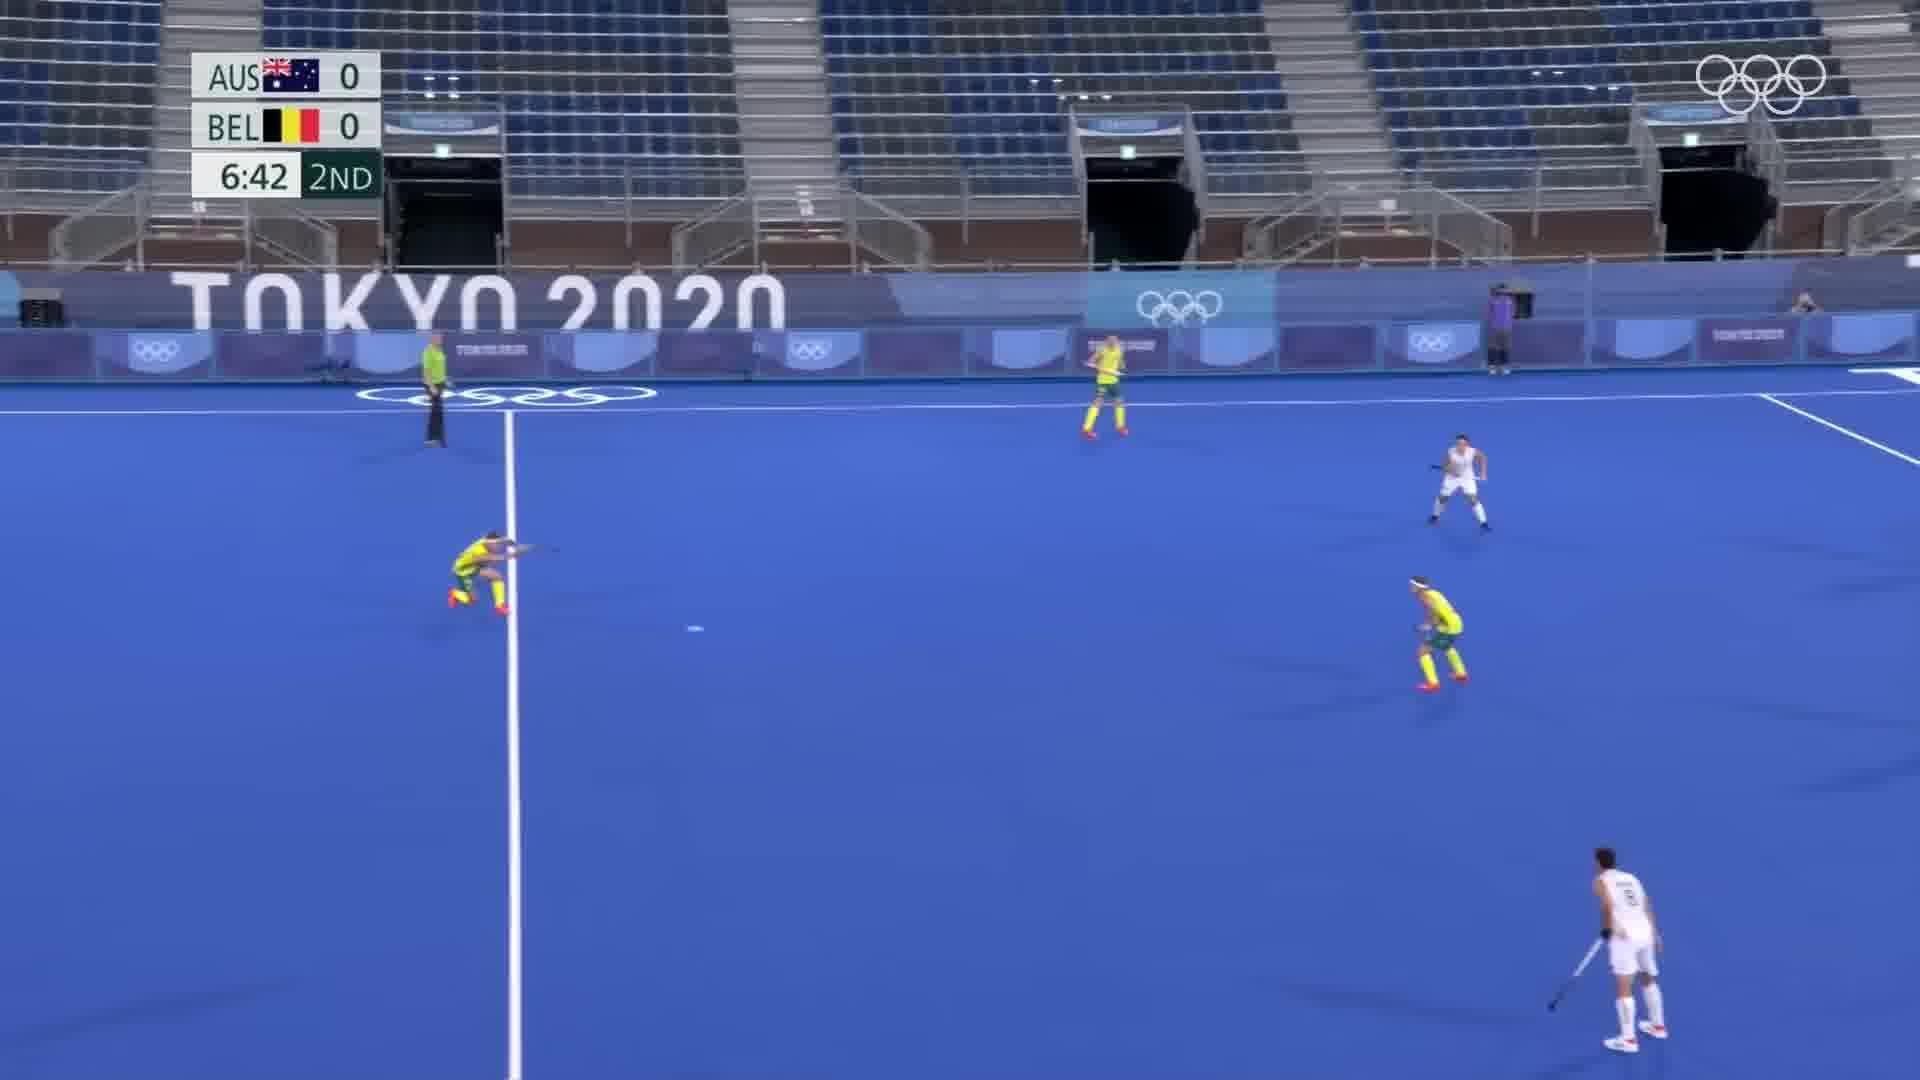ball: (675, 620, 712, 638)
